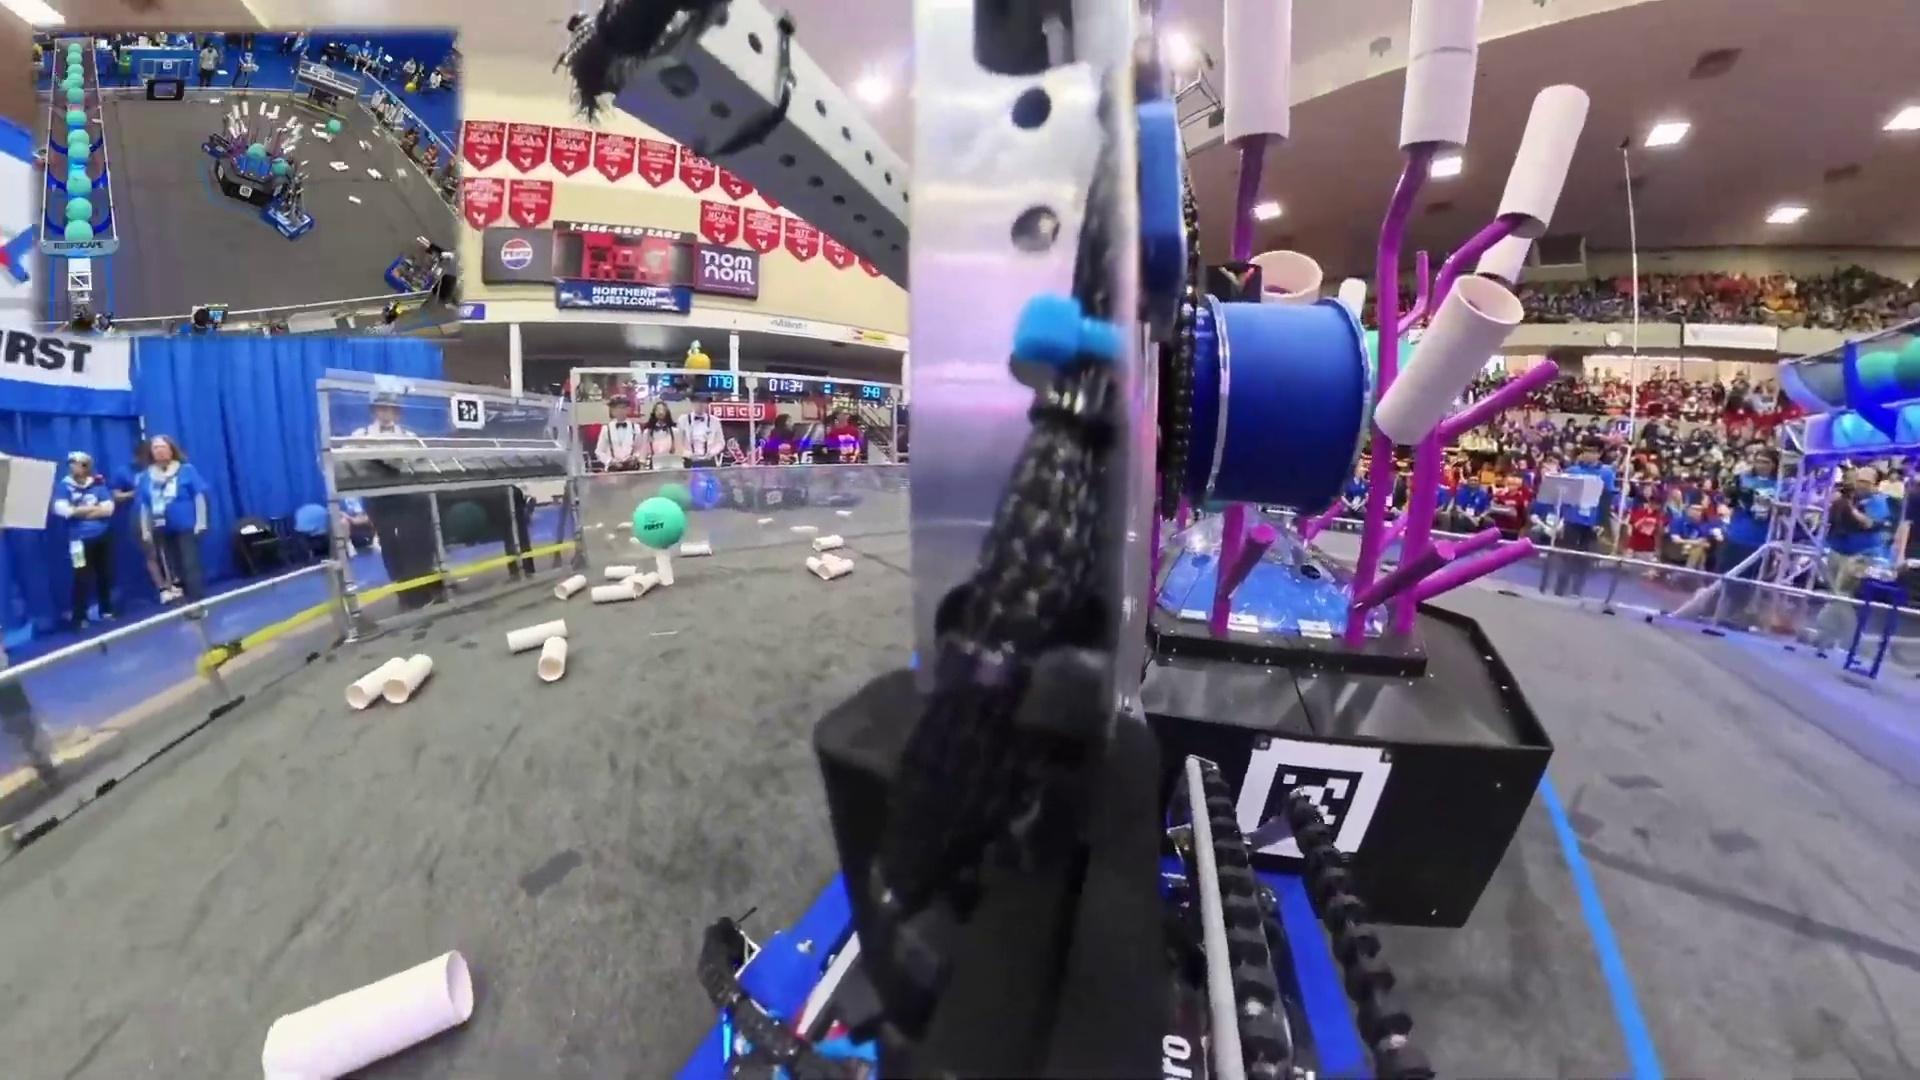robot: (556, 218, 688, 313), (261, 166, 315, 241), (384, 239, 439, 293), (199, 116, 232, 160)
